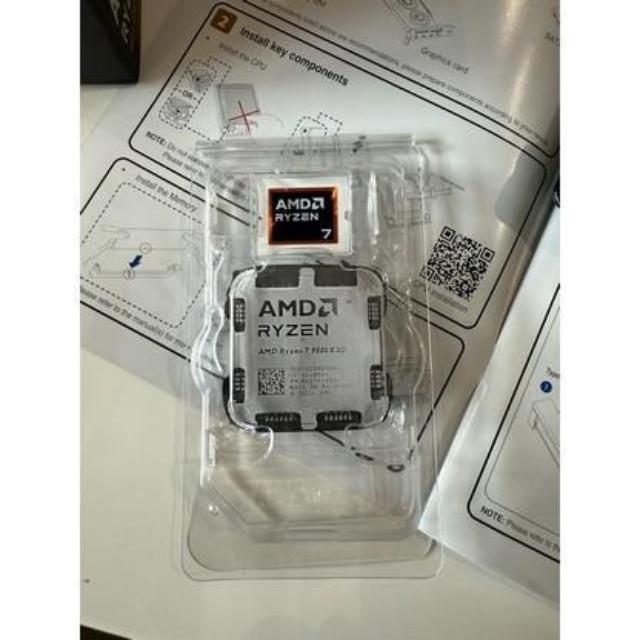CPU: (232, 267, 386, 427)
